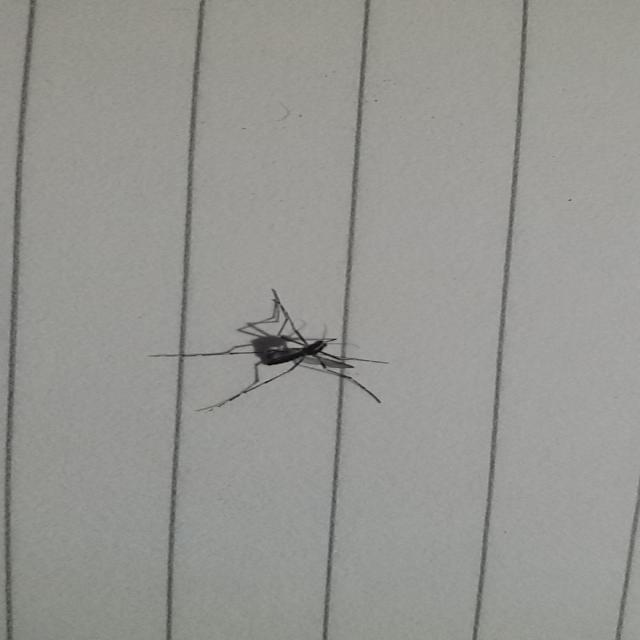albopictus: (148, 286, 399, 418)
